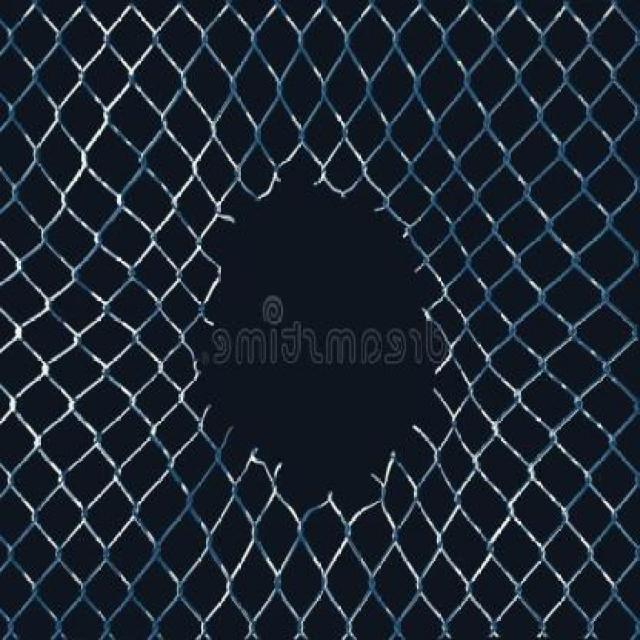fence line: (200, 166, 452, 492)
